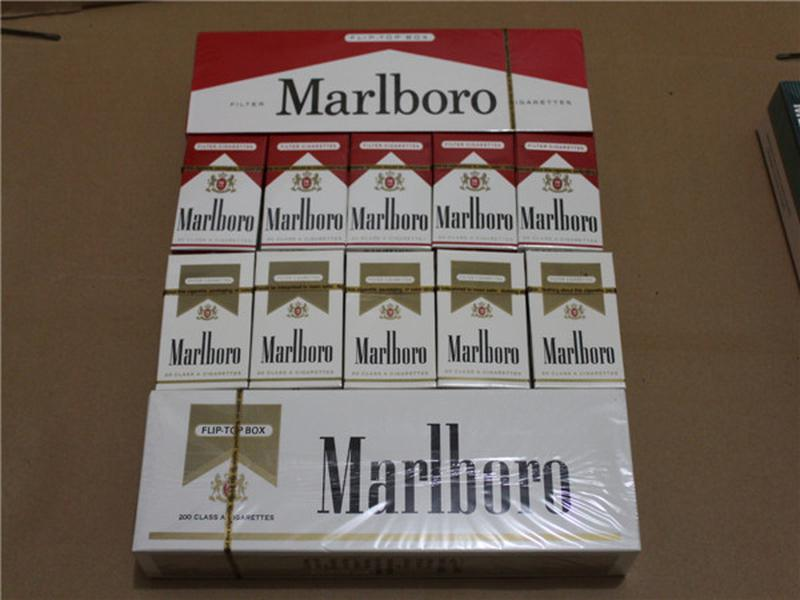marlboro_red: (177, 136, 261, 252), (517, 134, 599, 251), (346, 137, 429, 251), (434, 136, 516, 249), (263, 140, 346, 247)
